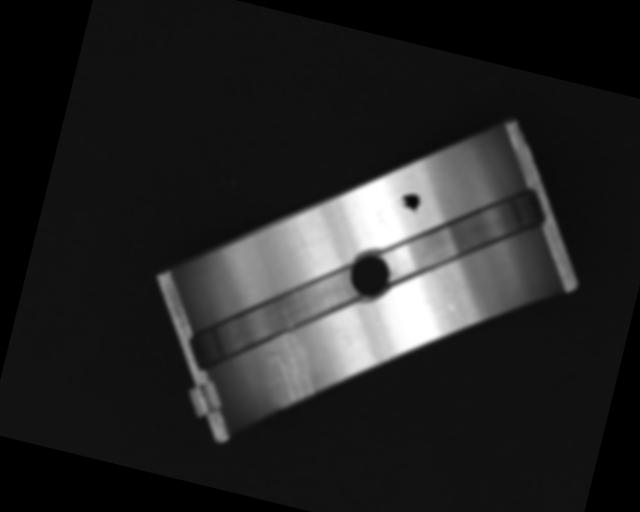blot: (393, 189, 423, 218)
gap: (189, 234, 365, 397), (380, 159, 550, 308)
hole: (346, 249, 395, 302)
nick: (422, 267, 469, 318), (288, 224, 319, 261)
scratch: (255, 328, 325, 411)
